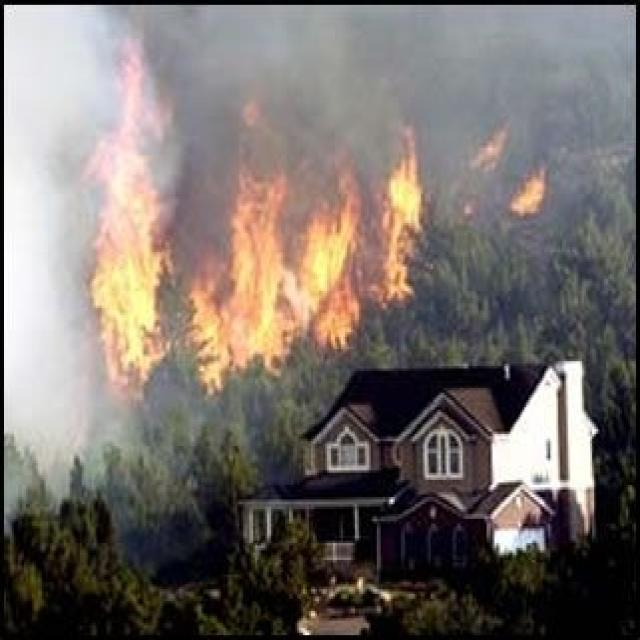Fire: (76, 56, 547, 416)
Smoke: (83, 0, 571, 151), (0, 0, 76, 468)
